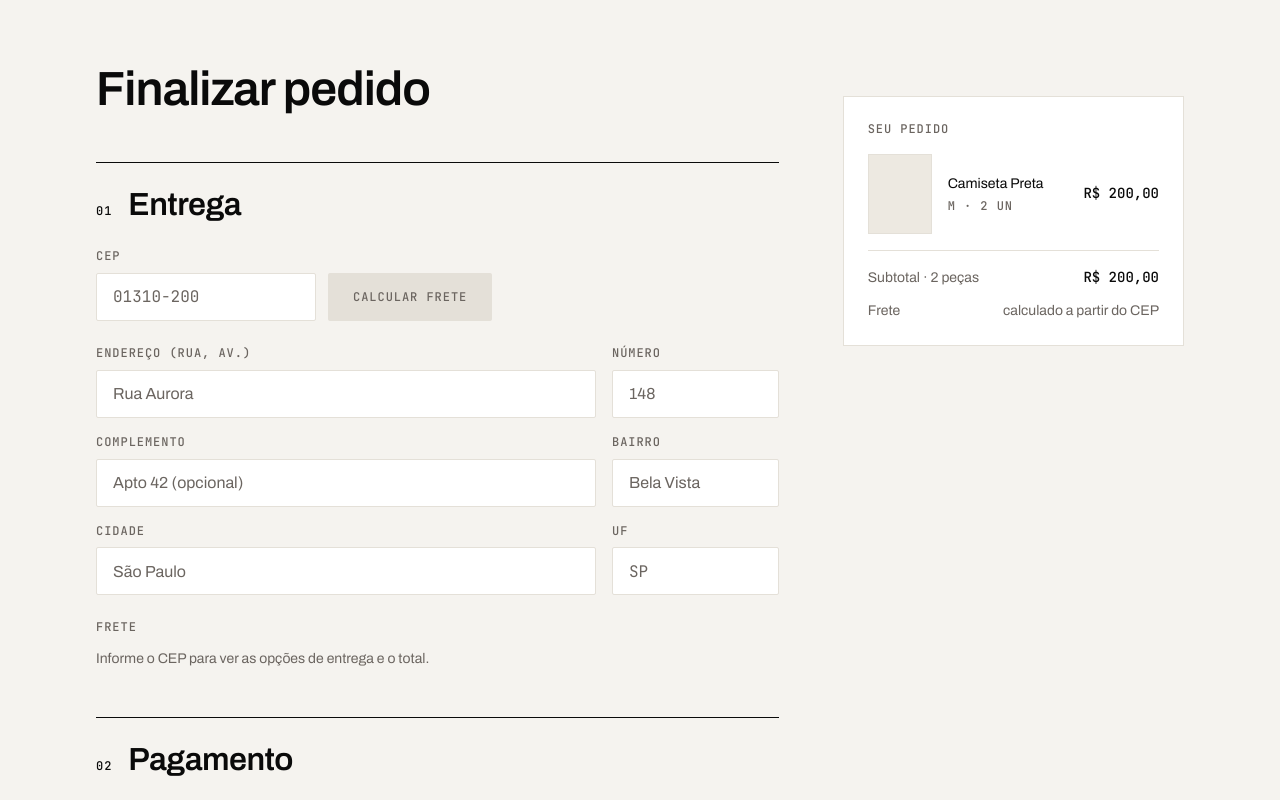
Test: CheckoutView › enables checkout button when address is complete and freight option selected
The image size is (1280, 800).
Type "01310200" into the field labelled "CEP" at x=206, y=297, box [96, 273, 316, 321]
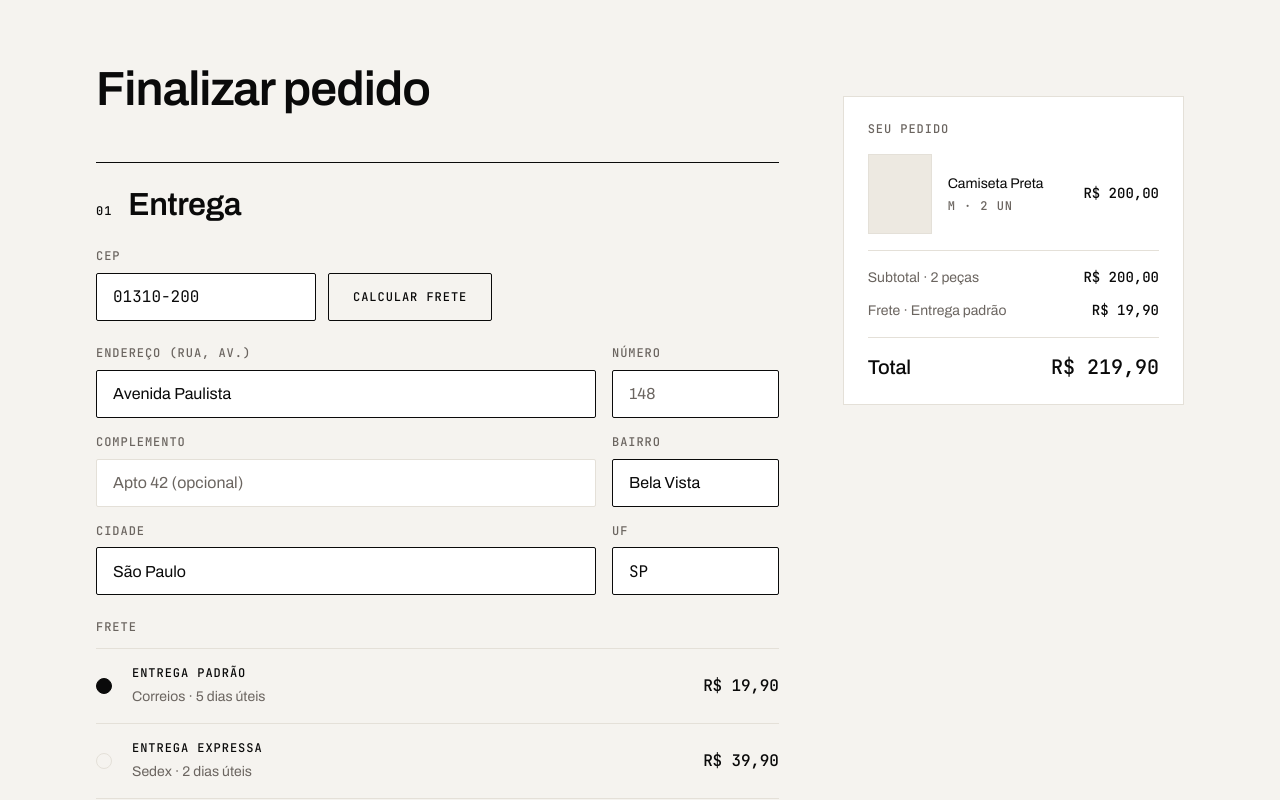
expect the field labelled "Endereço (Rua, Av.)" holds "Avenida Paulista": met, box [96, 370, 596, 418]
Type "1000" into the field labelled "Número" at x=695, y=394, box [612, 370, 779, 418]
(page scrolled)
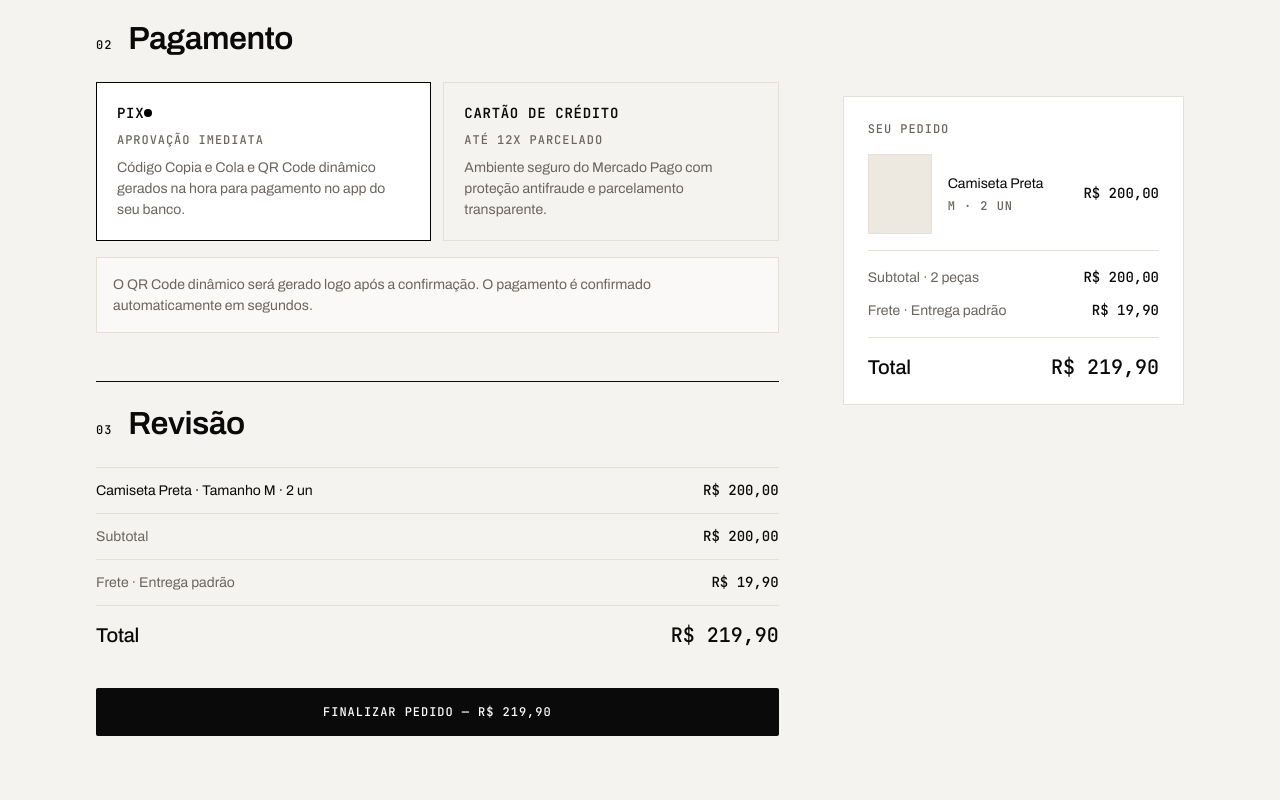
expect the button "Finalizar pedido — R$ 219,90" is enabled: met, box [96, 688, 779, 736]
